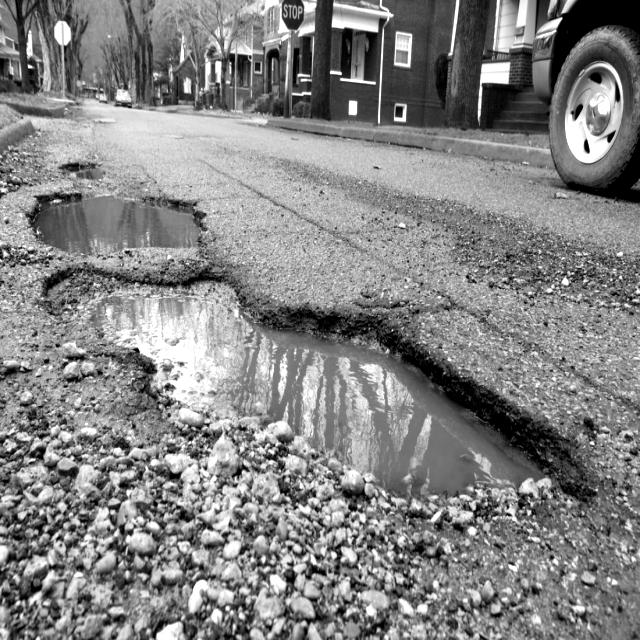pathole: (0, 240, 576, 639), (90, 283, 542, 494), (35, 195, 200, 252), (76, 167, 105, 179)
